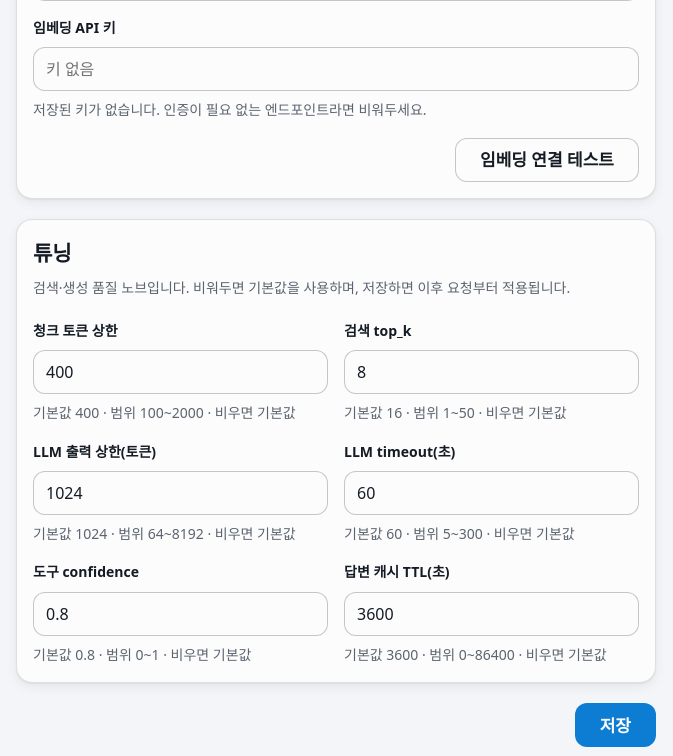
Scenario: AiConfigPanel — 저장 경고·노브 검증 (H15-3) › 노브가 범위를 벗어나면 저장하지 않고 에러를 보여준다
(page scrolled)
Replace the text in the number field labelled "검색 top_k" with "99" at (492,372), box [344, 350, 639, 394]
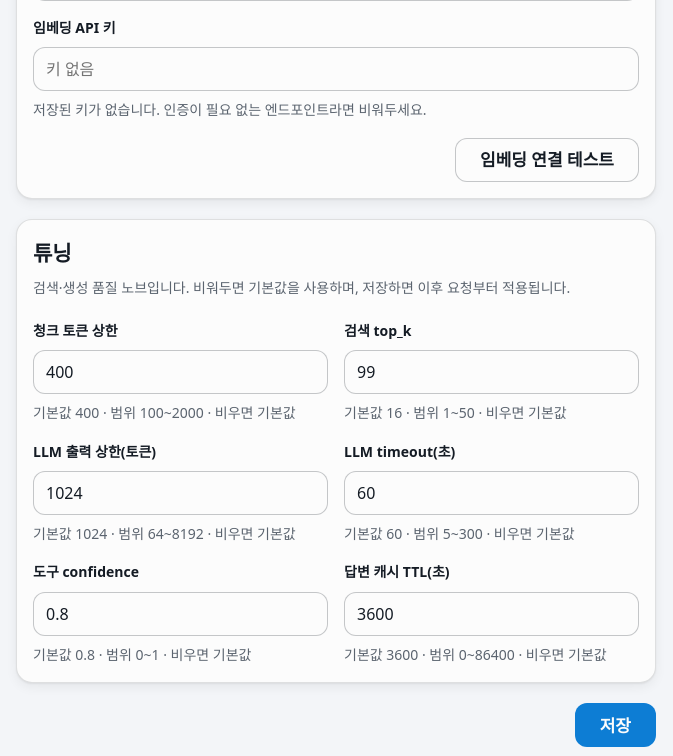
Click the button "저장" at (615,725), box [575, 703, 656, 747]
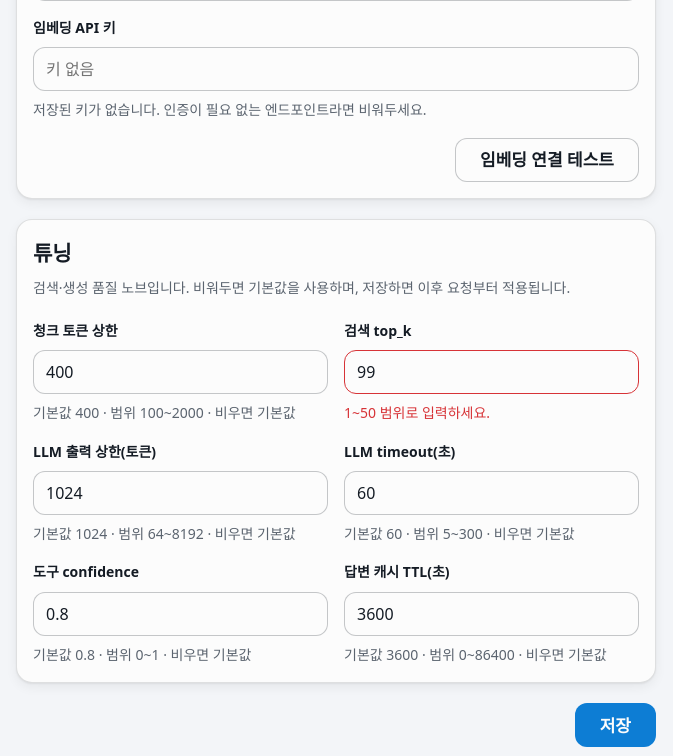
expect the text "1~50 범위로 입력하세요." is shown: met, box [344, 403, 490, 422]
